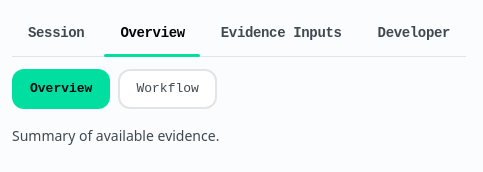
Test: WorkspaceStageNav › opens a stage's first section when that stage has not been visited
Click the tab with test id "stage-inputs". click: coordinates (281, 34)
box: [205,12,358,56]
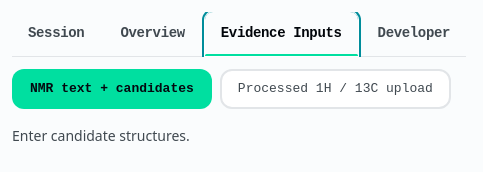
Expected: the text "Enter candidate structures." is shown, [12,126,190,145]
